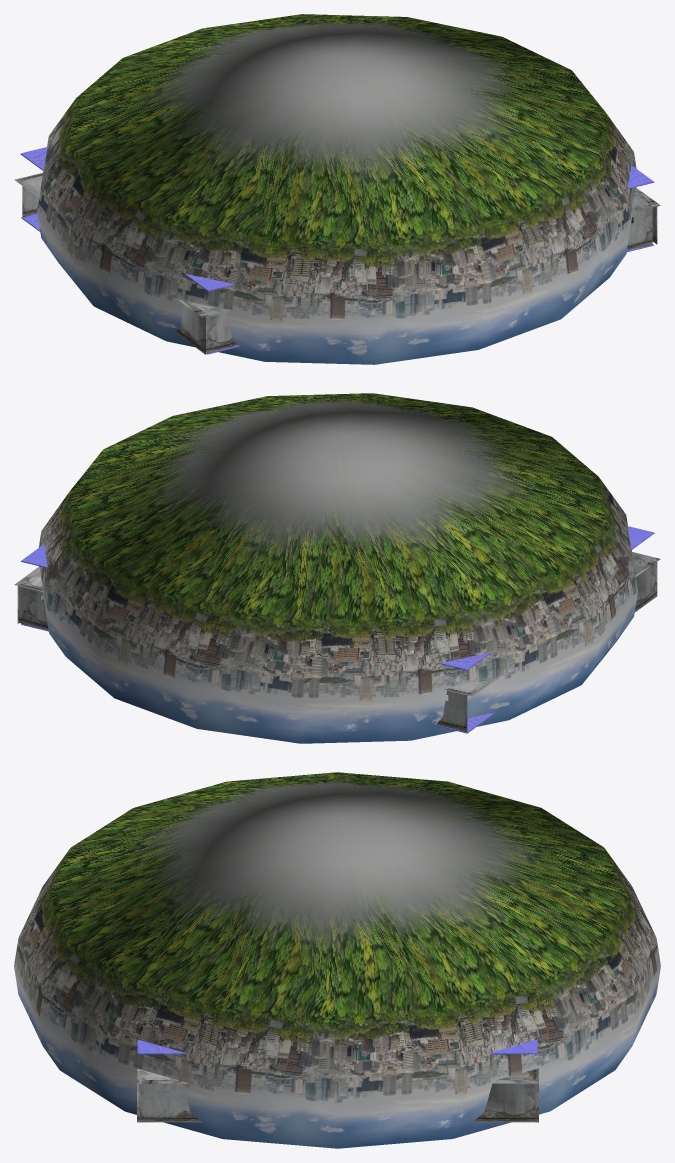
Rendered from Block_South.glb.
The picture shows the model from 3 angles, top to bottom: view 1: azimuth 30°, elevation 25°; view 2: azimuth 150°, elevation 25°; view 3: azimuth 270°, elevation 25°; orthographic projection. The views are drawn at different scales.
Visible parts, largest first — view 1: Block_South; view 2: Block_South; view 3: Block_South.
Boxes of the visible parts, x1,y1,x2,y2 form: Block_South: [14, 14, 660, 364]; Block_South: [14, 393, 660, 743]; Block_South: [14, 772, 660, 1148].
Size of the model in its own units: 332 by 113 by 332.
Materials: 16 (15 with a texture image).
